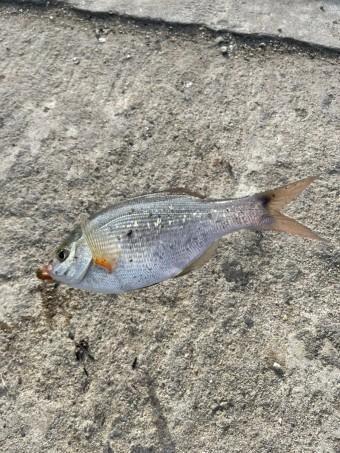fish: (41, 177, 323, 296)
